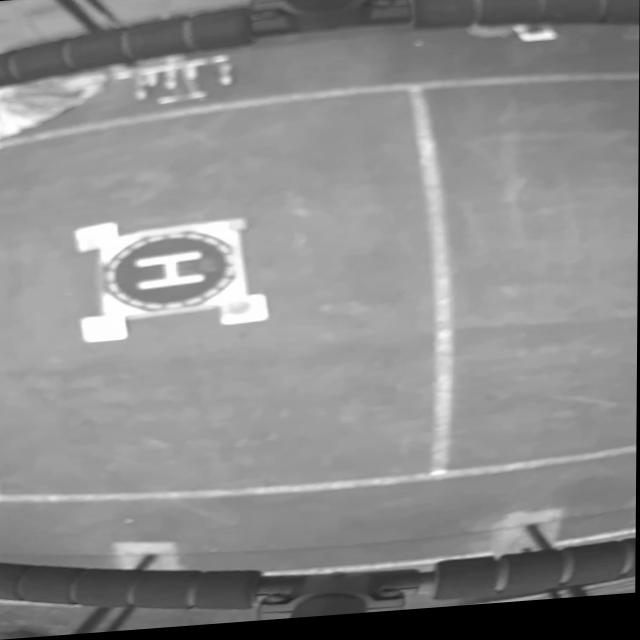Helipad: (136, 252, 207, 291)
